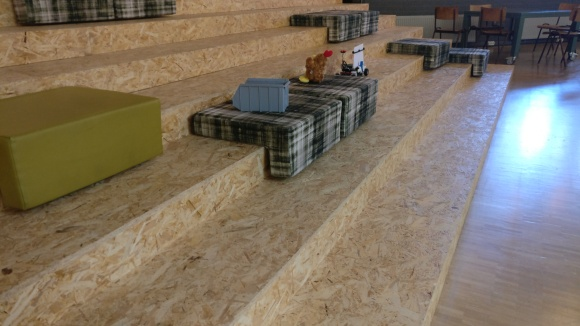car: (336, 43, 368, 78)
chicken: (297, 46, 332, 84)
tray: (230, 74, 290, 114)
